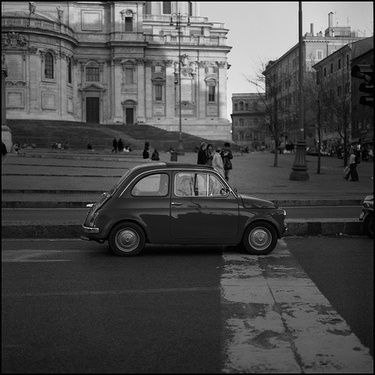car: (72, 151, 286, 260)
